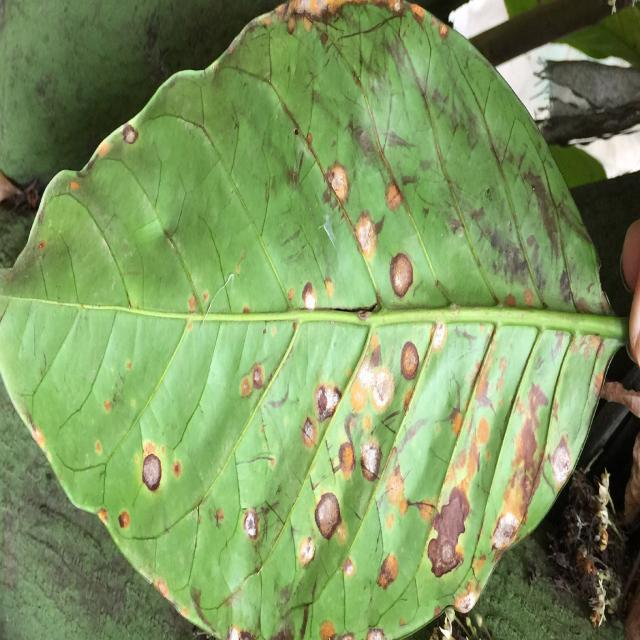Enfermedad-Mancha-de-hierro: (0, 7, 626, 640)
